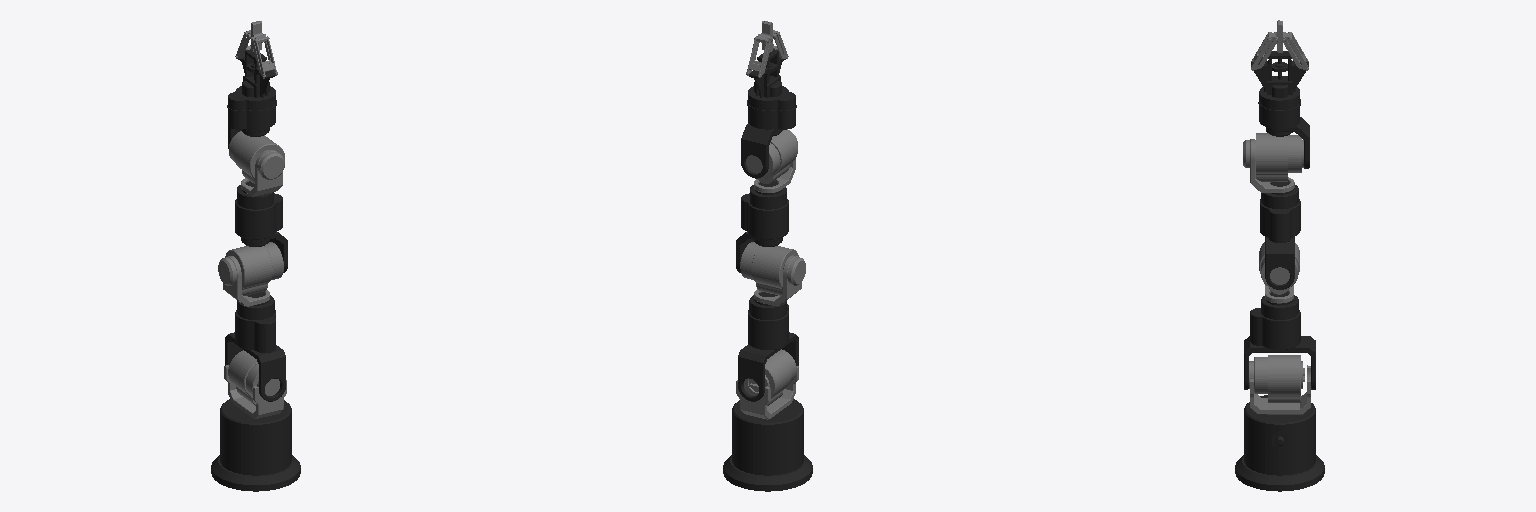
URDF robot description (WPM-2):
<?xml version = "1.0"?>
    <robot name = "WPM-2">
     <!-- material -->
    <material name = "black">
        <color rgba = "0.01 0.01 0.01 1"/>
    </material>
    <material name = "grey">
        <color rgba = "0.2 0.2 0.2 1"/>
    </material>
    <material name = "light_grey">
        <color rgba = "0.5 0.5 0.5 1"/>
    </material>
    <material name = "blue">
        <color rgba = "0.2 0.2 0.6 1"/>
    </material>
    <material name = "green">
        <color rgba = "0.2 0.6 0.2 1"/>
    </material>

    <!-- -->
    <link name = "base_link">
        <visual>
            <geometry>
                <box size = ".1 .1 .0"/>
            </geometry>
            <origin rpy = "0 0 0" xyz = "0 0 0"/>
            <material name = "grey"/>
        </visual>
        <collision>
            <geometry>
                <box size = ".1 .1 .0"/>
            </geometry>
        </collision>
        <inertial>
            <mass value = "10"/>
            <inertia ixx="1.0" ixy="0.0" ixz="0.0" iyy="1.0" iyz="0.0" izz = "1.0"/>
        </inertial>
    </link>

    <!-- ****manipulator ****-->
    <!-- mani_part_1 -->
        <link name = "wpm2_joint_1">
        <visual>
            <geometry>
                <mesh filename="package://wpm2_bringup/meshes/wpm2_joint_1.stl" scale="1 1 1"/>
            </geometry>
            <material name = "grey"/>
            <origin rpy = "1.57 0 1.57" xyz = "-0.1 -0.1 0"/>
        </visual>
    </link>
        <joint name = "base_joint1" type = "fixed">
        <parent link = "base_link"/>
        <child link = "wpm2_joint_1"/>
        <origin xyz = "0 0 0"/>
    </joint>

    <!-- mani_part_2 -->
        <link name = "wpm2_joint_2">
        <visual>
            <geometry>
                <mesh filename="package://wpm2_bringup/meshes/wpm2_joint_2.stl" scale="1 1 1"/>
            </geometry>
            <material name = "light_grey"/>
            <origin rpy = "-1.57 0 1.57" xyz = "0.135 -0.07 0.1285"/>
        </visual>
    </link>
        <joint name = "joint1_joint2" type = "revolute">
        <parent link = "wpm2_joint_1"/>
        <child link = "wpm2_joint_2"/>
        <axis xyz = "0 0 1"/>
        <origin xyz = "0 0 0.1585"/>
        <limit effort = "1000.0" lower="-3.14" upper="3.14" velocity="0.5"/>
    </joint>

    <!-- mani_part_3 -->
    <link name = "wpm2_joint_3">
        <visual>
            <geometry>
                <mesh filename="package://wpm2_bringup/meshes/wpm2_joint_3.stl" scale="1 1 1"/>
            </geometry>
            <material name = "grey"/>
            <origin rpy = "1.57 0 1.57" xyz = "-0.12 -0.08 -0.048"/>
        </visual>
    </link>
        <joint name = "joint2_joint3" type = "revolute">
        <parent link = "wpm2_joint_2"/>
        <child link = "wpm2_joint_3"/>
        <axis xyz = "0 -1 0"/>
        <origin xyz = "0 0 0.0825"/>
        <limit effort = "1000.0" lower="-3.14" upper="3.14" velocity="0.5"/>
    </joint>

    <!-- mani_part_4 -->
    <link name = "wpm2_joint_4">
        <visual>
            <geometry>
                <mesh filename="package://wpm2_bringup/meshes/wpm2_joint_4.stl" scale="1 1 1"/>
            </geometry>
            <material name = "light_grey"/>
            <origin rpy = "0 1.57 0" xyz = "-0.116 -0.057 0.122"/>
        </visual>
    </link>
        <joint name = "joint3_joint4" type = "revolute">
        <parent link = "wpm2_joint_3"/>
        <child link = "wpm2_joint_4"/>
        <axis xyz = "0 0 1"/>
        <origin xyz = "0 0 0.197"/>
        <limit effort = "1000.0" lower="-3.14" upper="3.14" velocity="0.5"/>
    </joint>

    <!-- mani_part_5 -->
    <link name = "wpm2_joint_5">
        <visual>
            <geometry>
                <mesh filename="package://wpm2_bringup/meshes/wpm2_joint_5.stl" scale="1 1 1"/>
            </geometry>
            <material name = "grey"/>
            <origin rpy = "0 -1.57 0" xyz = "0.107 -0.053 -0.033"/>
        </visual>
    </link>
        <joint name = "joint4_joint5" type = "revolute">
        <parent link = "wpm2_joint_4"/>
        <child link = "wpm2_joint_5"/>
        <axis xyz = "1 0 0"/>
        <origin xyz = "0 0 0.076"/>
        <limit effort = "1000.0" lower="-3.14" upper="3.14" velocity="0.5"/>
    </joint>

    <!-- mani_part_6 -->
    <link name = "wpm2_joint_6">
        <visual>
            <geometry>
                <mesh filename="package://wpm2_bringup/meshes/wpm2_joint_4.stl" scale="1 1 1"/>
            </geometry>
            <material name = "light_grey"/>
            <origin rpy = "0 1.57 1.57" xyz = "0.055 -0.115 0.122"/>
        </visual>
    </link>
        <joint name = "joint5_joint6" type = "revolute">
        <parent link = "wpm2_joint_5"/>
        <child link = "wpm2_joint_6"/>
        <axis xyz = "0 0 1"/>
        <origin xyz = "0 0 0.197"/>
        <limit effort = "1000.0" lower="-3.14" upper="3.14" velocity="0.5"/>
    </joint>

    <!-- mani_palm -->
    <link name = "wpm2_palm">
        <visual>
            <geometry>
                <mesh filename="package://wpm2_bringup/meshes/wpm2_palm.stl" scale="1 1 1"/>
            </geometry>
            <material name = "grey"/>
            <origin rpy = "0 -1.57 1.57" xyz = "0.0566 0.0985 -0.034"/>
        </visual>
    </link>
        <joint name = "joint6_palm" type = "revolute">
        <parent link = "wpm2_joint_6"/>
        <child link = "wpm2_palm"/>
        <axis xyz = "0 1 0"/>
        <origin xyz = "0 0 0.076"/>
        <limit effort = "1000.0" lower="-3.14" upper="3.14" velocity="0.5"/>
    </joint>

    <!-- finger -->
        <link name = "wpm2_left_finger">
        <visual>
            <geometry>
                <mesh filename="package://wpm2_bringup/meshes/wpm2_finger.stl" scale="0.001 0.001 0.001"/>
            </geometry>
                <material name = "light_grey"/>
            <origin rpy = "1.57 0 -1.57" xyz = ".021 0.005 -0.005"/>
        </visual>
    </link>
    <joint name = "wpm2_palm_finger" type = "revolute">
        <parent link = "wpm2_palm"/>
        <child link = "wpm2_left_finger"/>
        <origin xyz = "0 0.06 0.219"/>
        <axis xyz = "-1 0 0"/>
        <limit effort = "1000.0" lower="0" upper="1.0" velocity="0.5"/>
    </joint>

        <link name = "wpm2_right_finger">
        <visual>
            <geometry>
                <mesh filename="package://wpm2_bringup/meshes/wpm2_finger.stl" scale="0.001 0.001 0.001"/>
            </geometry>
                <material name = "light_grey"/>
            <origin rpy = "1.57 0 1.57" xyz = "-0.0175 -0.005 -0.005"/>
        </visual>
    </link>
    <joint name = "wpm2_palm_right_finger" type = "revolute">
        <parent link = "wpm2_palm"/>
        <child link = "wpm2_right_finger"/>
        <origin xyz = "0 -0.06 0.219"/>
        <axis xyz = "1 0 0"/>
        <limit effort = "1000.0" lower="0" upper="1.0" velocity="0.5"/>
        <mimic joint = "wpm2_palm_finger" multiplier = "1" offset = "0"/>
    </joint>
    <!-- *****************-->

    </robot>

--- Facts derived from the render (not from the file) ---
3 views of the same robot in one strip: view 1: azimuth 30°, elevation 25°; view 2: azimuth 150°, elevation 25°; view 3: azimuth 270°, elevation 25° (orthographic).
Model WPM-2 with 10 links and 9 joints (8 revolute, 1 fixed), rooted at base_link, posed every joint at zero.
Links seen in each view (by area): view 1: wpm2_joint_1, wpm2_joint_3, wpm2_palm, wpm2_joint_4, wpm2_joint_5, wpm2_joint_6, wpm2_joint_2, wpm2_right_finger; view 2: wpm2_joint_1, wpm2_palm, wpm2_joint_3, wpm2_joint_4, wpm2_joint_5, wpm2_joint_2, wpm2_joint_6, wpm2_left_finger; view 3: wpm2_joint_1, wpm2_palm, wpm2_joint_2, wpm2_joint_3, wpm2_joint_5, wpm2_joint_6, wpm2_joint_4, wpm2_right_finger, wpm2_left_finger.
Boxes of the visible links, x1,y1,x2,y2 form: wpm2_joint_1: (211,399,300,491); wpm2_joint_3: (225,292,285,401); wpm2_palm: (227,49,276,148); wpm2_joint_4: (218,242,283,306); wpm2_joint_5: (235,181,287,272); wpm2_joint_6: (229,131,284,196); wpm2_joint_2: (224,350,286,418); wpm2_right_finger: (251,21,277,78); wpm2_joint_1: (723,399,812,491); wpm2_palm: (741,49,796,178); wpm2_joint_3: (738,292,798,401); wpm2_joint_4: (740,242,805,306); wpm2_joint_5: (736,181,788,272); wpm2_joint_2: (736,349,798,419); wpm2_joint_6: (746,129,797,192); wpm2_left_finger: (746,21,772,77); wpm2_joint_1: (1235,395,1324,491); wpm2_palm: (1251,51,1309,168); wpm2_joint_2: (1249,355,1310,414); wpm2_joint_3: (1244,292,1315,389); wpm2_joint_5: (1260,182,1300,289); wpm2_joint_6: (1243,133,1303,192); wpm2_joint_4: (1259,242,1299,303); wpm2_right_finger: (1251,20,1279,70); wpm2_left_finger: (1280,21,1308,70).
Bounding box of the posed robot: 0.2 × 0.1999 × 1.11 m (x, y, z).
9 mesh visuals loaded from 7 distinct referenced files (7 binary STL).